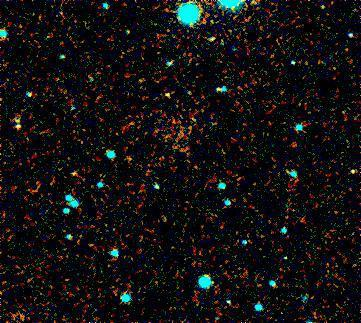star: (153, 81, 183, 111)
